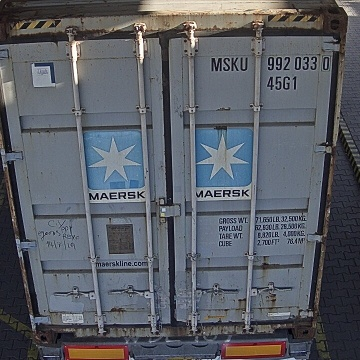serial_id: (211, 55, 331, 71)
